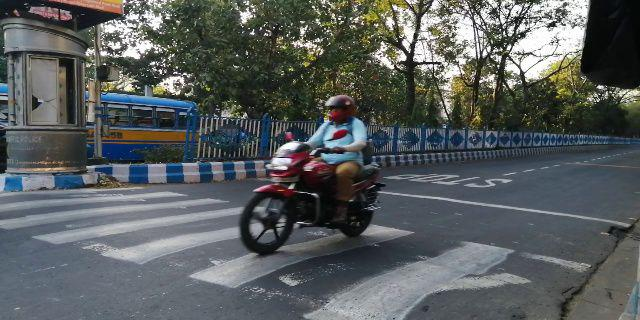Motorbike: (231, 88, 381, 255)
